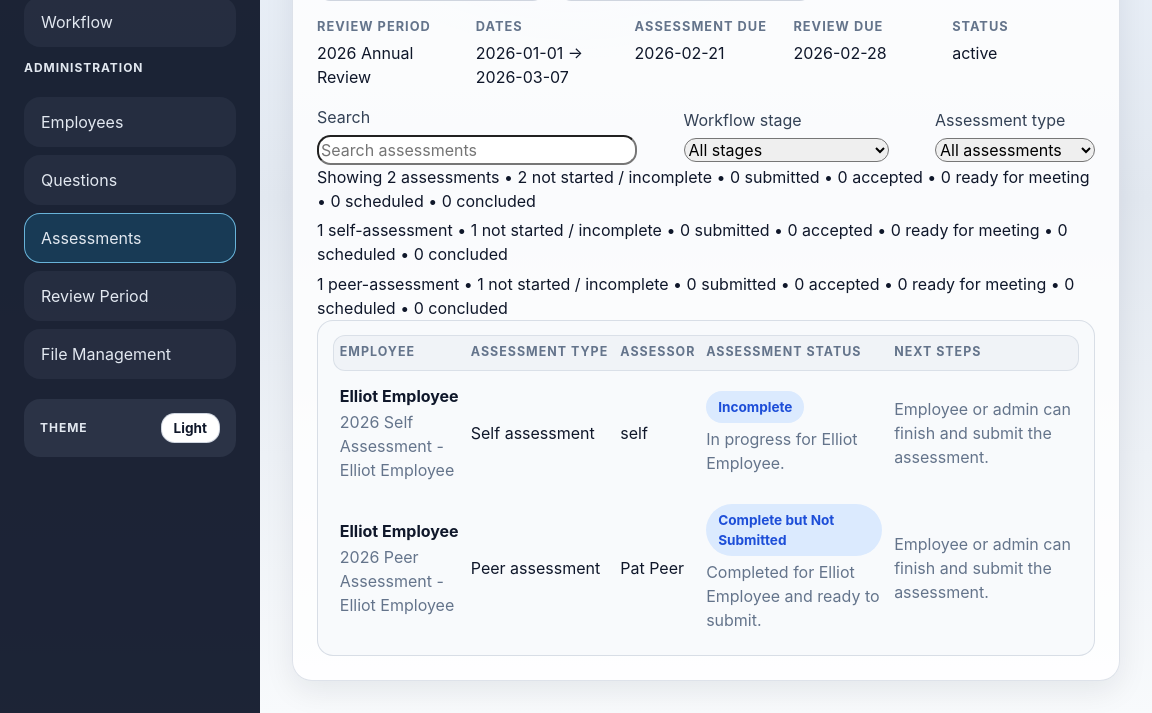
Test case: workflow entry › opens draft assessment editing from the admin assessments page
(page scrolled)
Click the 1st button with class "assessment-row-card-clickable".
click(706, 433)  # box [333,374,1079,492]
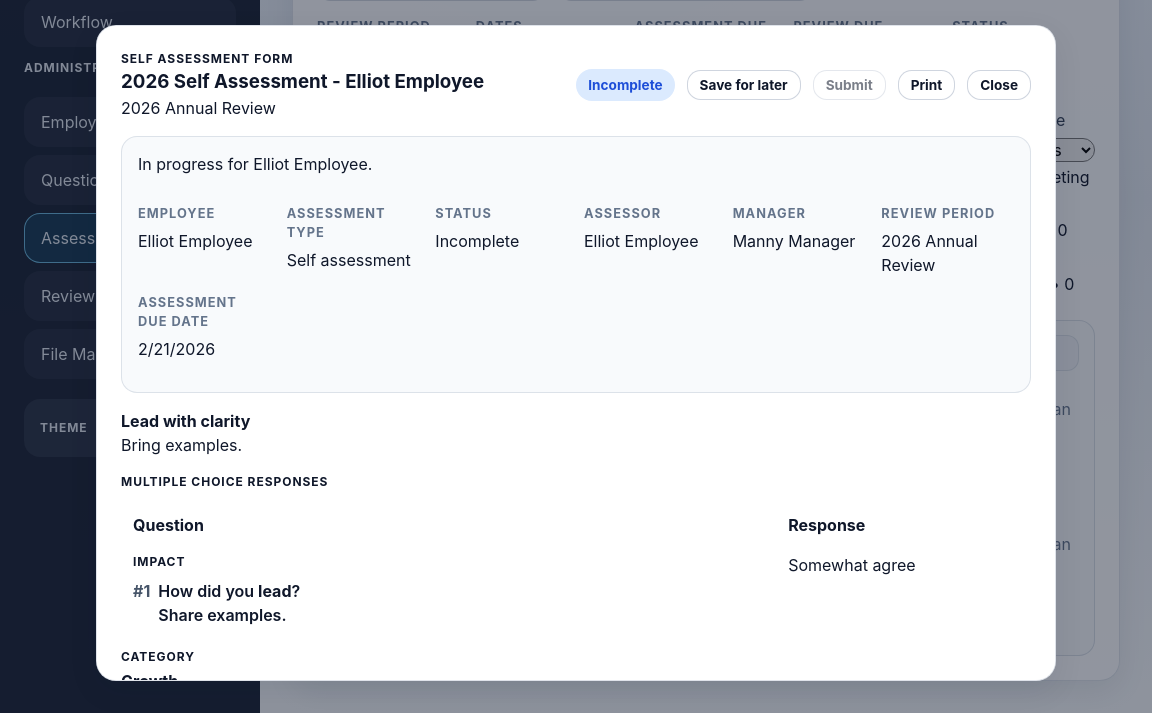
Now the text "Self assessment form" is shown, box [121,51,293,66]
Now the text "Save for later" is shown, box [687,70,801,100]
